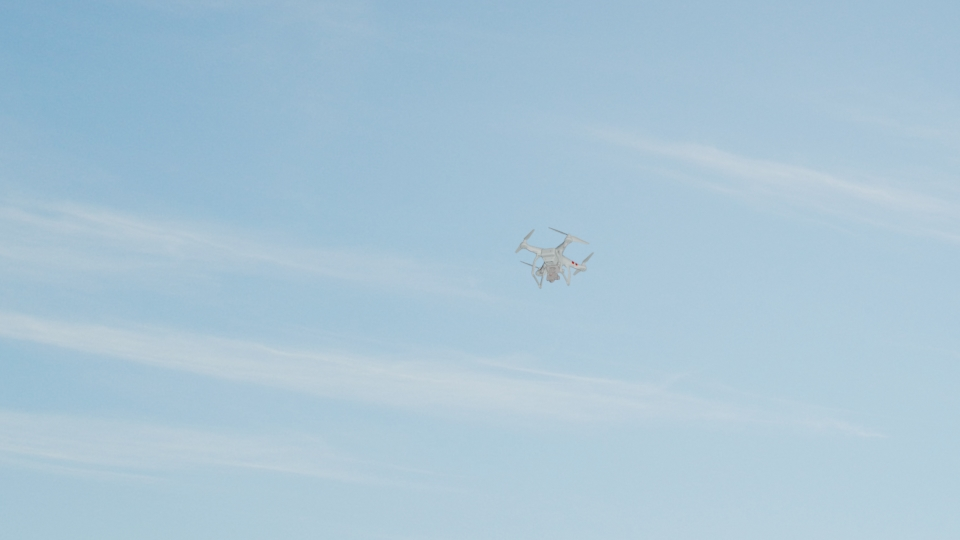drone: (514, 224, 597, 288)
